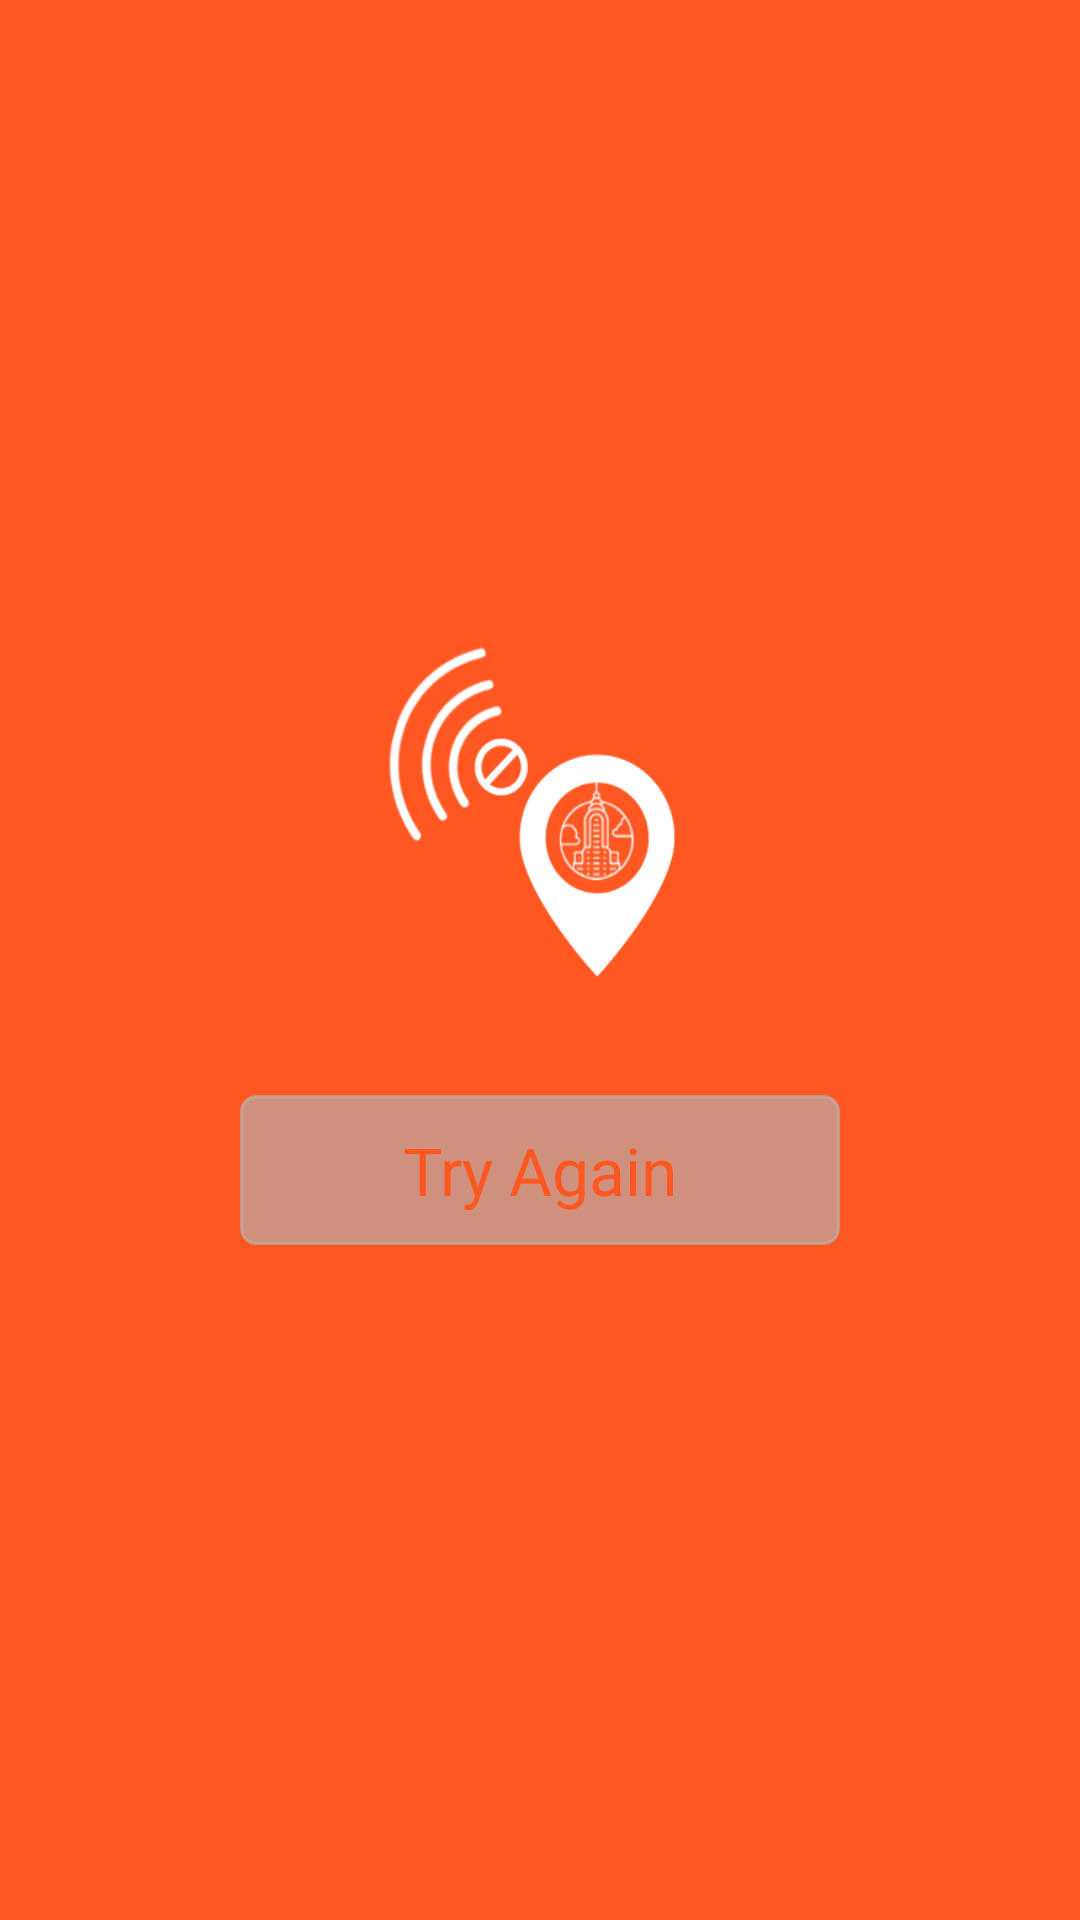

Locate icon controls on the screen. Image size 1080 x 1920, boxes as [x1=x1, y1=y1, x2=x2, y2=y2].
nointernet: [x1=389, y1=647, x2=675, y2=977]
